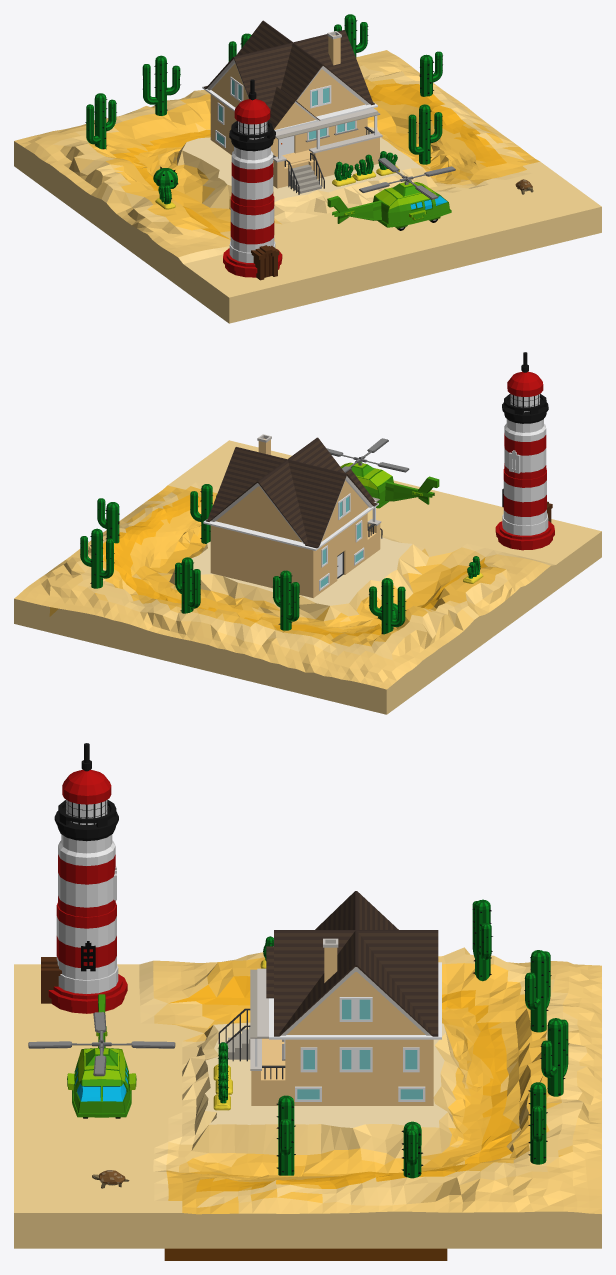
3 renders of one model, top to bottom at view 1: azimuth 30°, elevation 25°; view 2: azimuth 150°, elevation 25°; view 3: azimuth 270°, elevation 25°, orthographic. The views are drawn at different scales.
Parts seen in each view (by area): view 1: Cube.001, Cube.235, OBJRANDOM_LIGHTHOUSE, VEHICLES_HELICOPTER, Cylinder.044, Cylinder.037, Cylinder.045, Cylinder.038, Cylinder.042, Cylinder.039; view 2: Cube.001, Cube.235, OBJRANDOM_LIGHTHOUSE, VEHICLES_HELICOPTER, Cylinder.045, Cylinder.042, Cylinder.044, Cylinder.043, Cylinder.037, Cylinder.038; view 3: Cube.001, Cube.235, OBJRANDOM_LIGHTHOUSE, VEHICLES_HELICOPTER, UNDERGROUND_ART_PIECE_VAN_GOGH, Cylinder.043, Cylinder.044, Cylinder.045, Cylinder.042, Cylinder.037, Cylinder.038.
Boxes of the visible parts, x1,y1,x2,y2 form: Cube.001: (14,50,601,323); Cube.235: (202,20,382,194); OBJRANDOM_LIGHTHOUSE: (223,79,282,280); VEHICLES_HELICOPTER: (327,157,455,230); Cylinder.044: (142,55,180,115); Cylinder.037: (408,104,442,164); Cylinder.045: (85,93,116,149); Cylinder.038: (419,51,442,96); Cylinder.042: (334,14,368,57); Cylinder.039: (332,161,355,186); Cube.001: (14,440,601,714); Cube.235: (203,434,382,598); OBJRANDOM_LIGHTHOUSE: (495,352,554,550); VEHICLES_HELICOPTER: (326,438,439,508); Cylinder.045: (369,578,406,634); Cylinder.042: (80,528,114,588); Cylinder.044: (273,570,299,630); Cylinder.043: (175,557,200,613); Cylinder.037: (190,484,216,543); Cylinder.038: (97,498,119,543); Cube.001: (14,947,601,1248); Cube.235: (218,891,441,1105); OBJRANDOM_LIGHTHOUSE: (41,743,127,1013); VEHICLES_HELICOPTER: (28,994,175,1118); UNDERGROUND_ART_PIECE_VAN_GOGH: (164,1248,447,1260); Cylinder.043: (540,1018,569,1096); Cylinder.044: (524,950,551,1032); Cylinder.045: (472,899,492,981); Cylinder.042: (528,1082,547,1164); Cylinder.037: (276,1095,295,1175); Cylinder.038: (401,1121,423,1178).
Bounding box in the file's own units: 4002 × 2375 × 4001.
39 materials, 3 textured.
